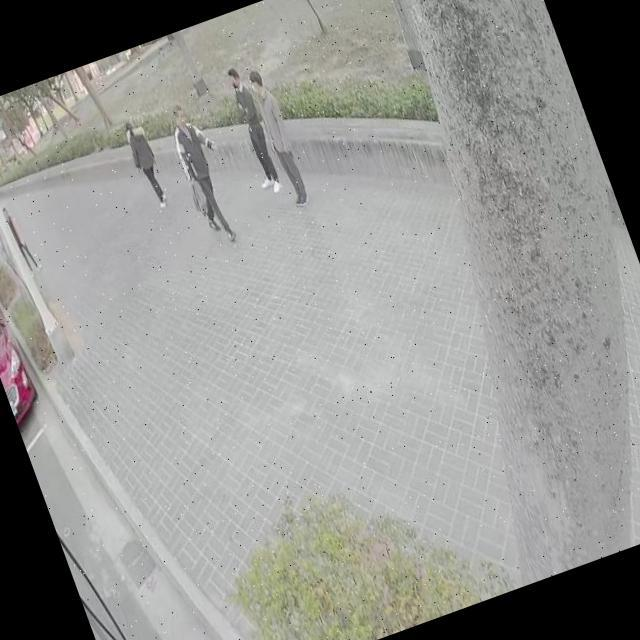person: (163, 98, 248, 247), (246, 70, 313, 208), (220, 67, 282, 192), (122, 114, 173, 210), (4, 204, 41, 276)
